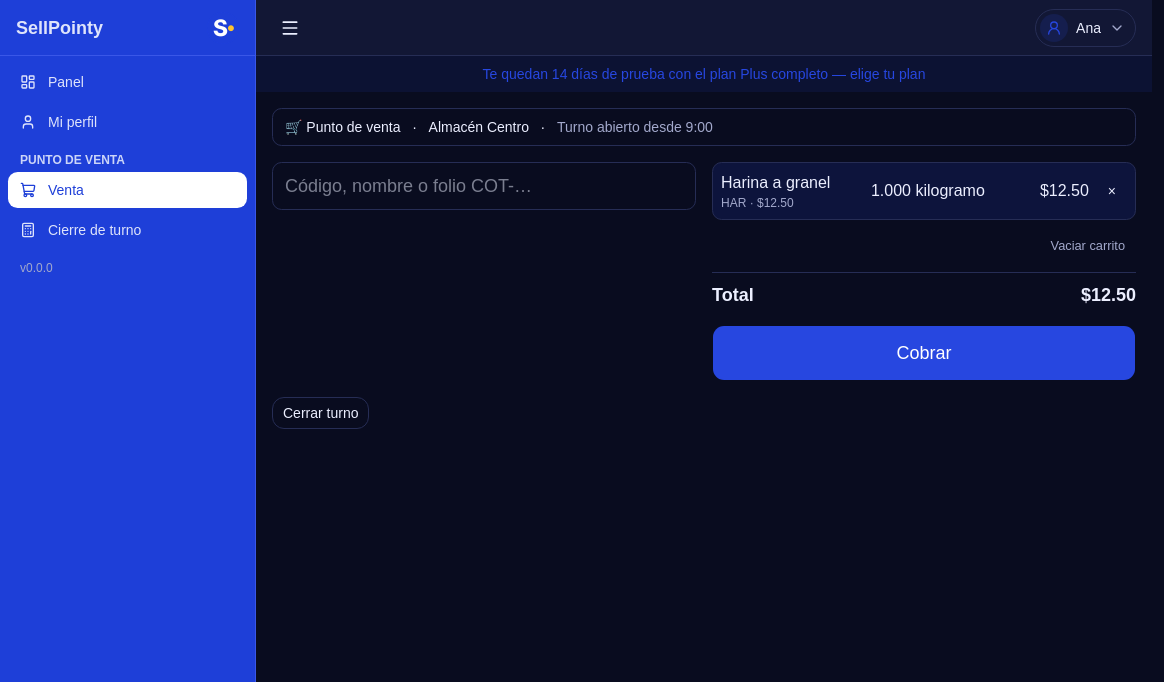
Test case: El carrito del POS (F4-CART) › el numpad (F4-CART-03) › en una FRACCIONARIA el punto está
Expected: the field named "Buscar" is shown, x1=272 y1=162 x2=696 y2=210
Click the text "Harina a granel" at (776, 182), box x1=721 y1=174 x2=830 y2=191
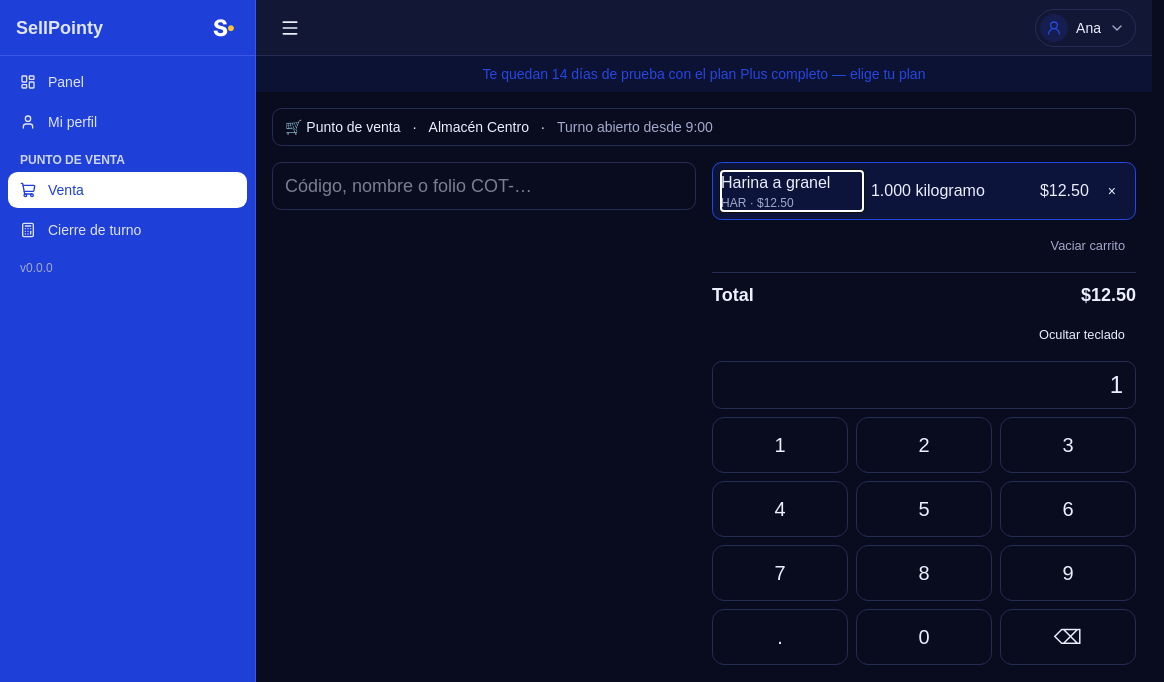
Now the button "." is shown, box x1=712 y1=609 x2=848 y2=665
